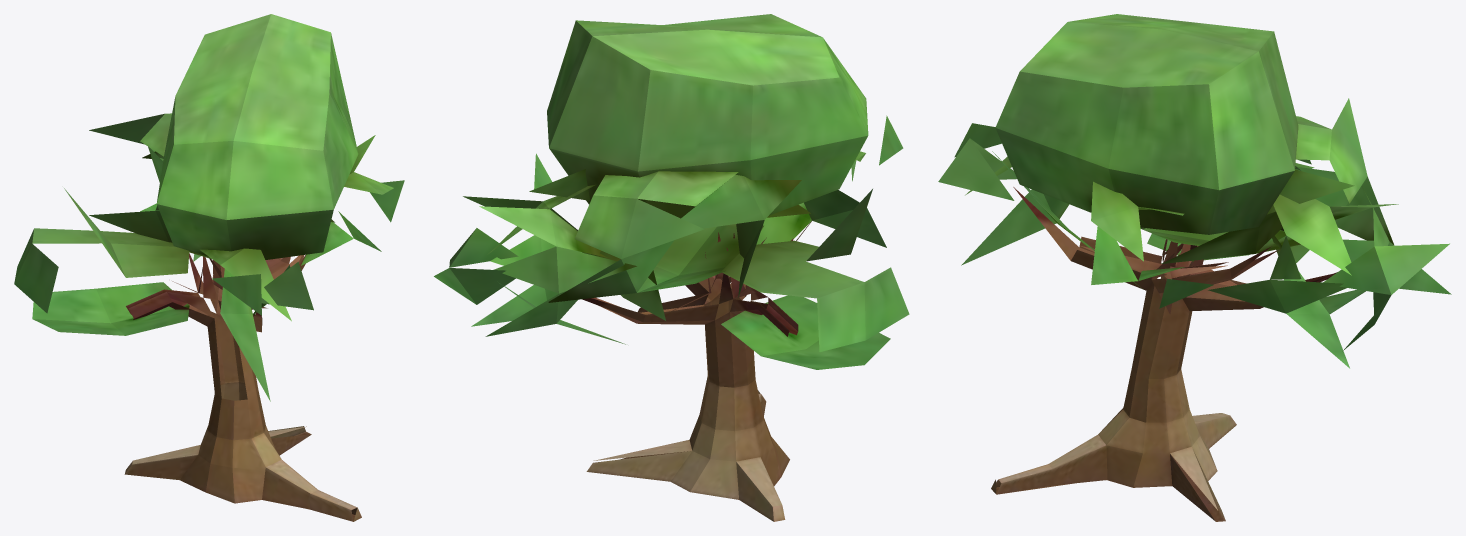
File: arbol-1-lejos.glb
The picture shows the model from 3 angles, left to right: view 1: azimuth 30°, elevation 25°; view 2: azimuth 150°, elevation 25°; view 3: azimuth 270°, elevation 25°; orthographic projection. The views are drawn at different scales.
Visible parts, largest first — view 1: Hojas, Arbol3; view 2: Hojas, Arbol3; view 3: Hojas, Arbol3.
Part boxes in pixels (<box>): Hojas: <box>14,14,404,401</box>; Arbol3: <box>124,253,361,521</box>; Hojas: <box>434,14,909,369</box>; Arbol3: <box>582,221,811,521</box>; Hojas: <box>938,14,1451,368</box>; Arbol3: <box>991,187,1337,521</box>.
Bounding box in the file's own units: 4.79 × 5.18 × 5.26.
Materials: 2 (2 with a texture image).
